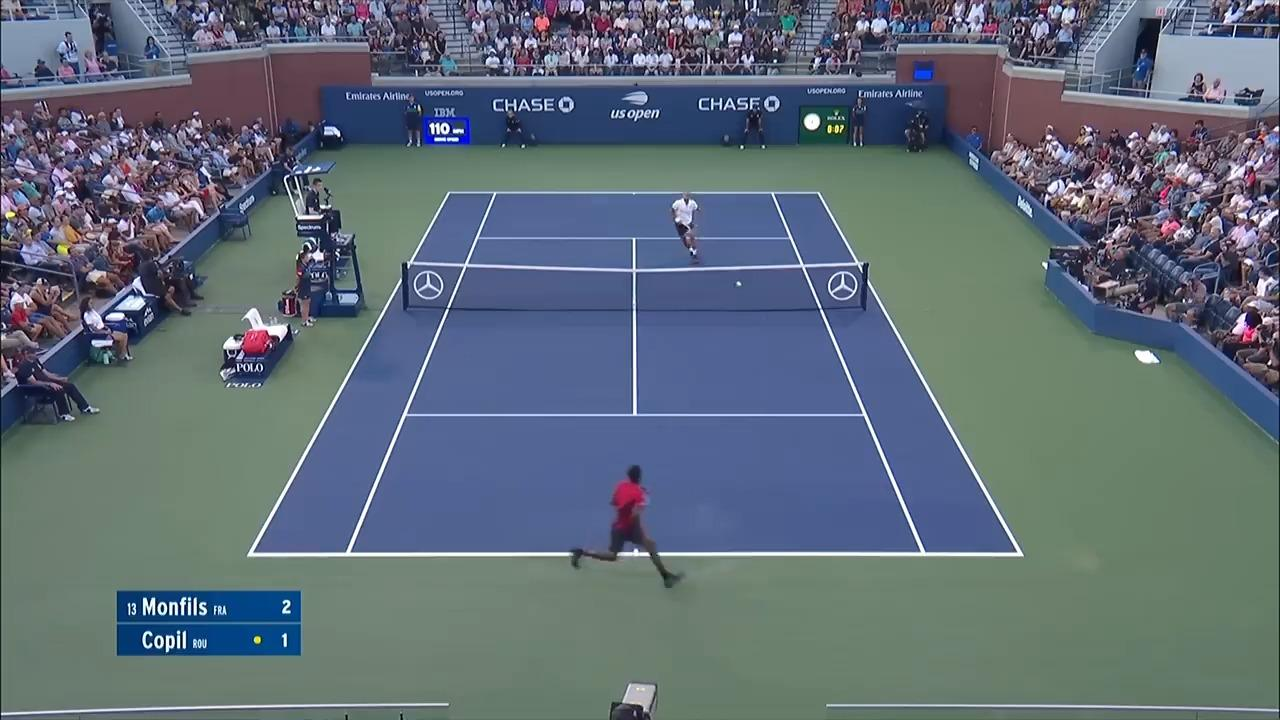tennis ball: (735, 280, 742, 286)
